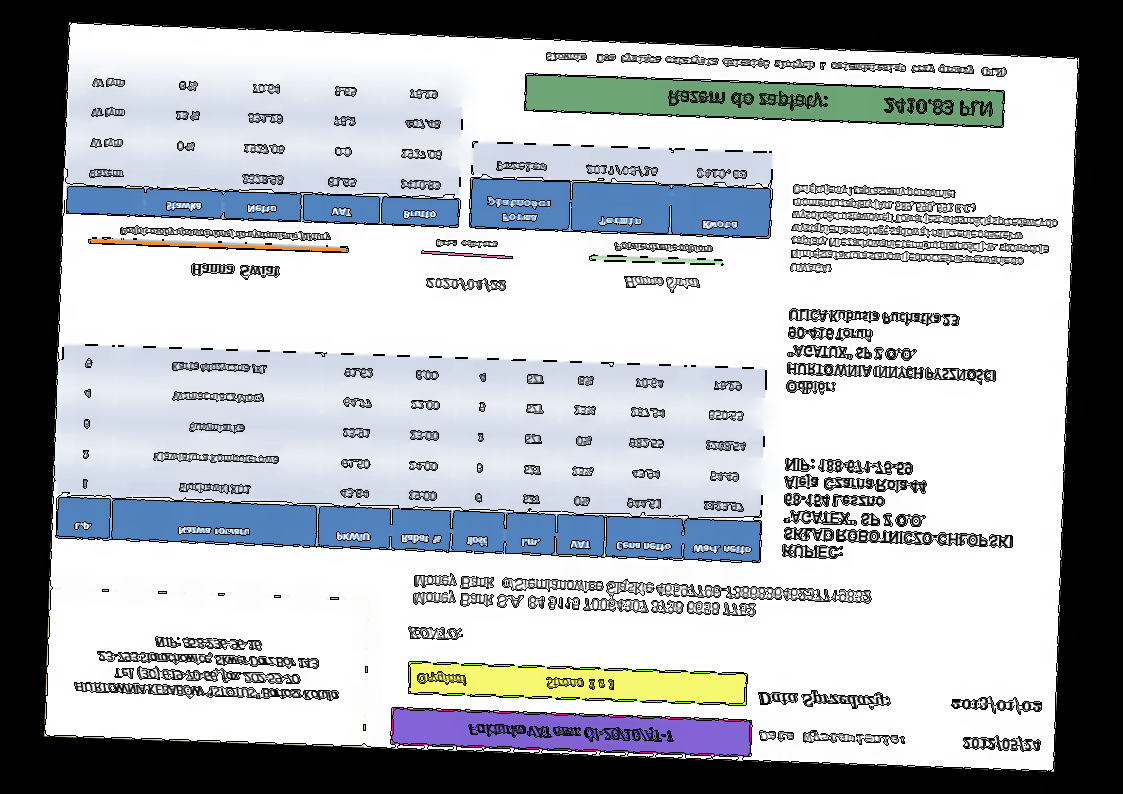Table: (54, 342, 769, 564), (63, 61, 467, 231), (468, 140, 773, 240)
TextBox: (787, 181, 1062, 286), (779, 455, 1017, 569), (410, 571, 874, 627), (783, 305, 1000, 404), (72, 630, 343, 704), (544, 47, 1009, 81), (665, 85, 996, 123), (413, 667, 618, 695), (464, 721, 679, 746), (117, 224, 335, 246), (756, 685, 893, 713), (755, 726, 908, 749), (950, 693, 1048, 717), (187, 261, 283, 283), (422, 272, 509, 296), (959, 732, 1045, 755), (621, 273, 703, 295), (610, 239, 715, 256), (405, 624, 466, 646), (434, 238, 500, 253)
